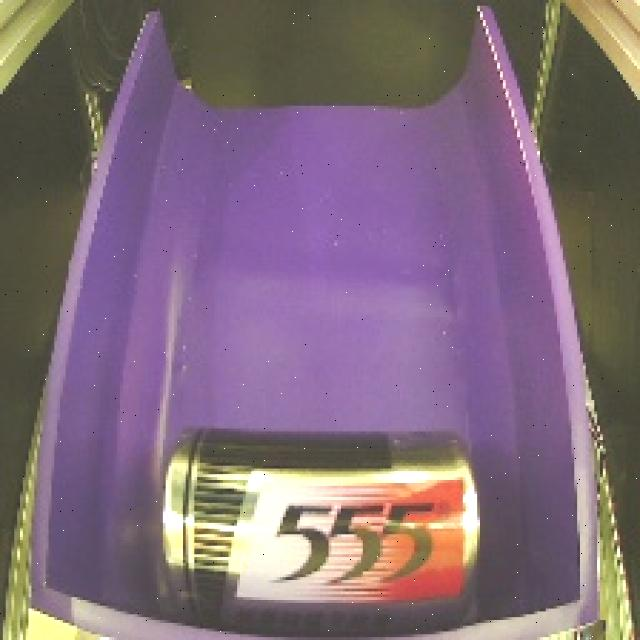battery: (142, 414, 494, 634)
